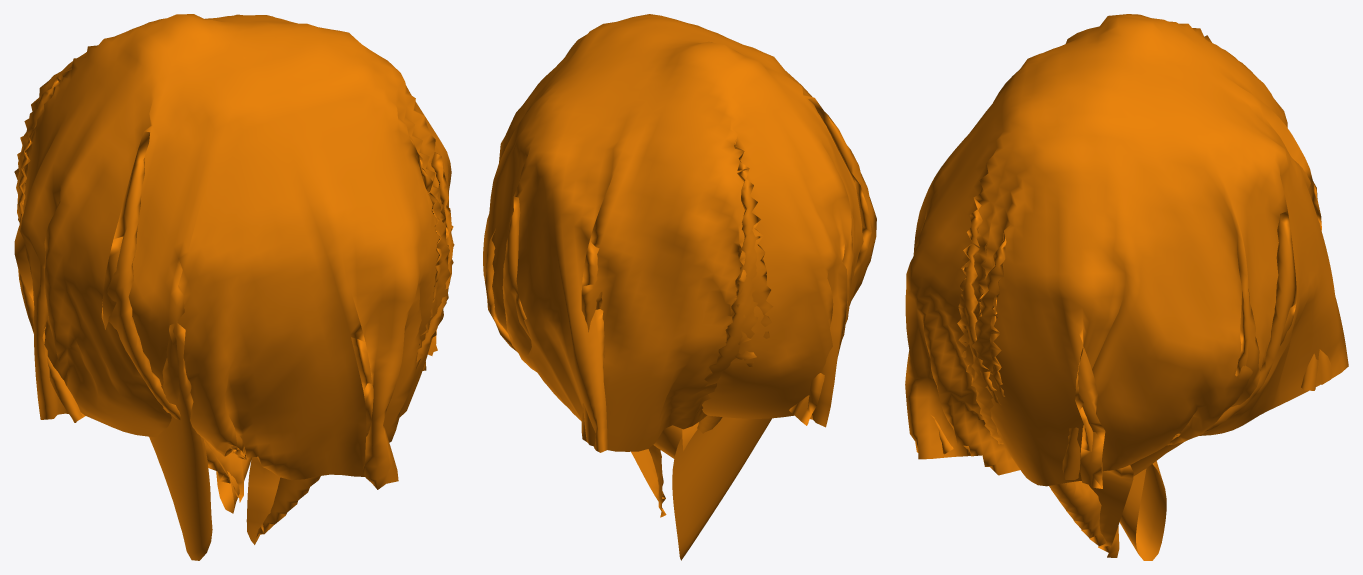
Rendered from pentol jelek.fbx.
3 views of the same model, side by side, from view 1: azimuth 30°, elevation 25°; view 2: azimuth 150°, elevation 25°; view 3: azimuth 270°, elevation 25° (orthographic). The views are drawn at different scales.
Visible parts, largest first — view 1: Grid; view 2: Grid; view 3: Grid.
Part boxes in pixels (bbox=[...]): Grid: bbox=[14, 14, 454, 560]; Grid: bbox=[483, 14, 876, 560]; Grid: bbox=[905, 14, 1348, 560].
Size of the model in its own units: 201 by 272 by 206.
